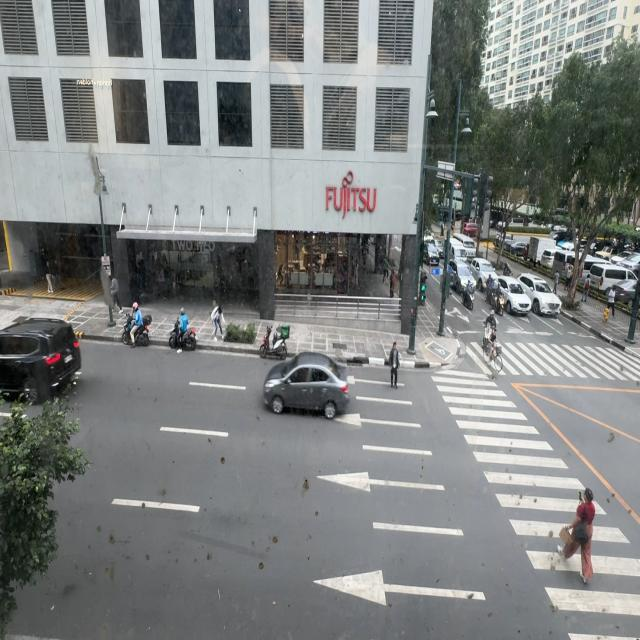crossing: (560, 468, 601, 588)
jaywalking: (384, 338, 401, 394)
pedestrain: (606, 286, 616, 316), (582, 276, 590, 303), (553, 270, 559, 294)
